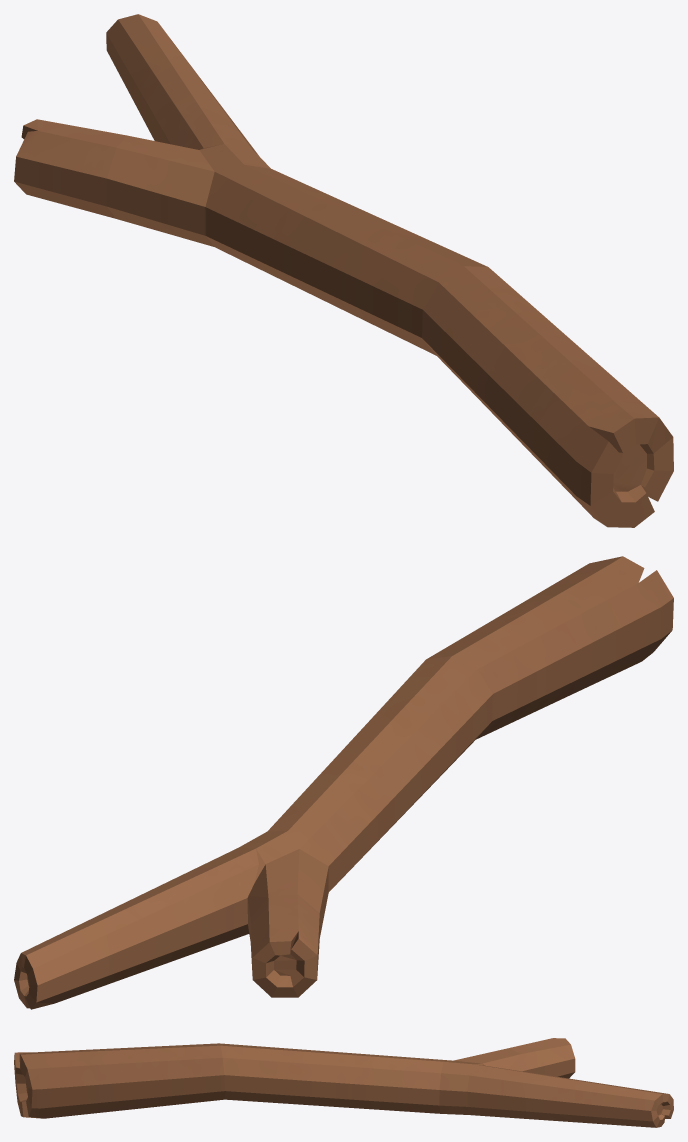
The model's file is Tree_Branch_05.fbx.
3 views of the same model, one above another, from view 1: azimuth 30°, elevation 25°; view 2: azimuth 150°, elevation 25°; view 3: azimuth 270°, elevation 25° (orthographic). The views are drawn at different scales.
Visible parts, largest first — view 1: Tree_Branch_05; view 2: Tree_Branch_05; view 3: Tree_Branch_05.
Boxes of the visible parts, <box> form: Tree_Branch_05: <box>14,14,673,527</box>; Tree_Branch_05: <box>14,556,673,1009</box>; Tree_Branch_05: <box>14,1038,673,1127</box>.
Bounding box in the file's own units: 36.56 × 18.78 × 154.
